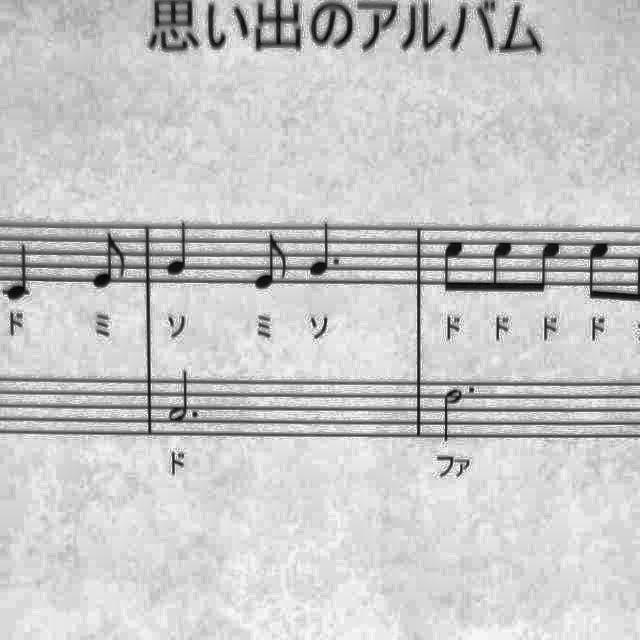Eighth-note: (86, 227, 134, 293), (249, 228, 295, 294), (582, 235, 618, 309), (436, 233, 472, 301), (530, 235, 566, 302), (484, 234, 518, 298)
Half-dot: (434, 382, 480, 448), (166, 366, 210, 429)
Quarter-dot: (306, 215, 350, 281)
Quarter-note: (1, 239, 40, 307), (160, 216, 198, 282)
